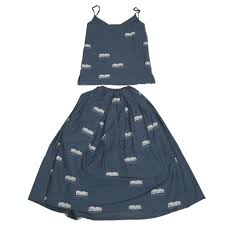C_skirt: (23, 84, 214, 221)
